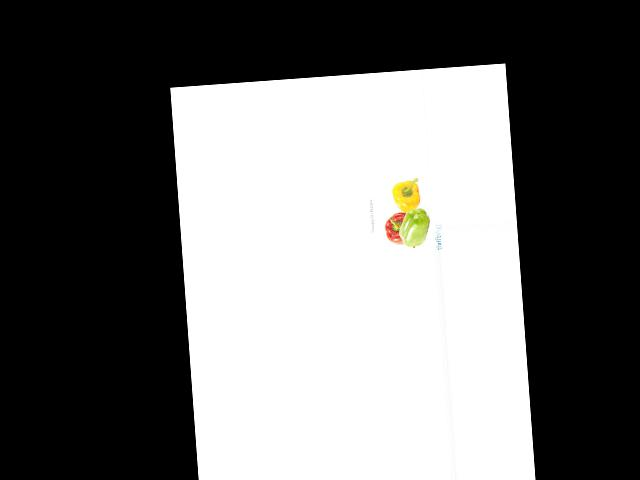bell_pepper: (398, 204, 434, 249)
